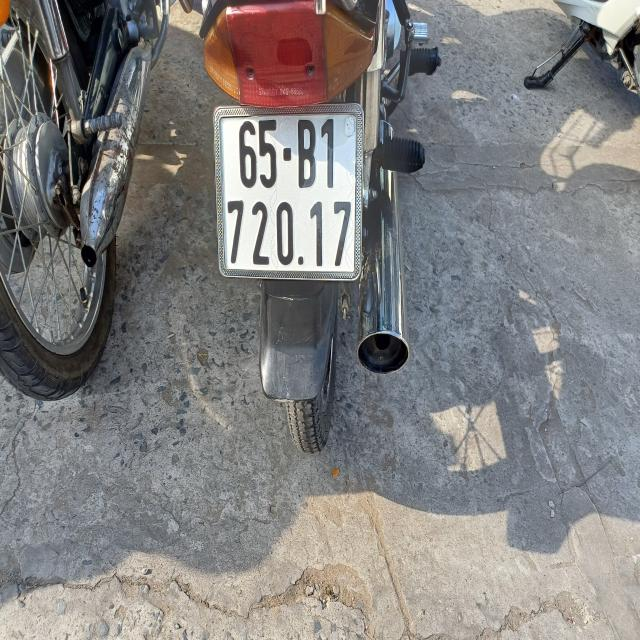0: (277, 203, 295, 262)
1: (309, 197, 328, 272)
2: (250, 198, 274, 264), (321, 116, 337, 190)
5: (258, 120, 278, 185)
6: (240, 117, 258, 194)
7: (332, 196, 352, 268), (225, 197, 247, 261)
B: (295, 116, 319, 192)
